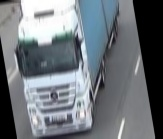truck: (6, 0, 139, 139)
